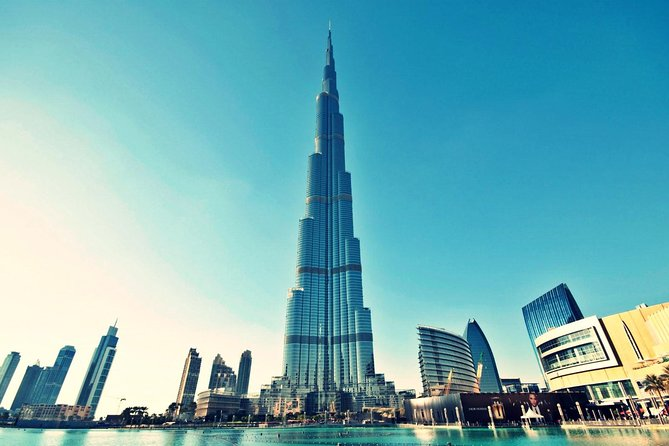Sky Building: (291, 22, 387, 425), (411, 316, 500, 415), (75, 316, 121, 427), (210, 350, 252, 420), (175, 343, 202, 421)
